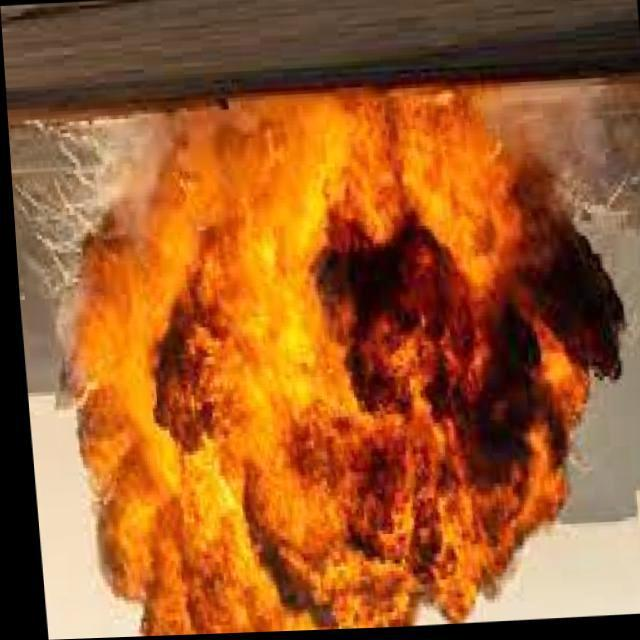fire: (28, 96, 556, 640)
